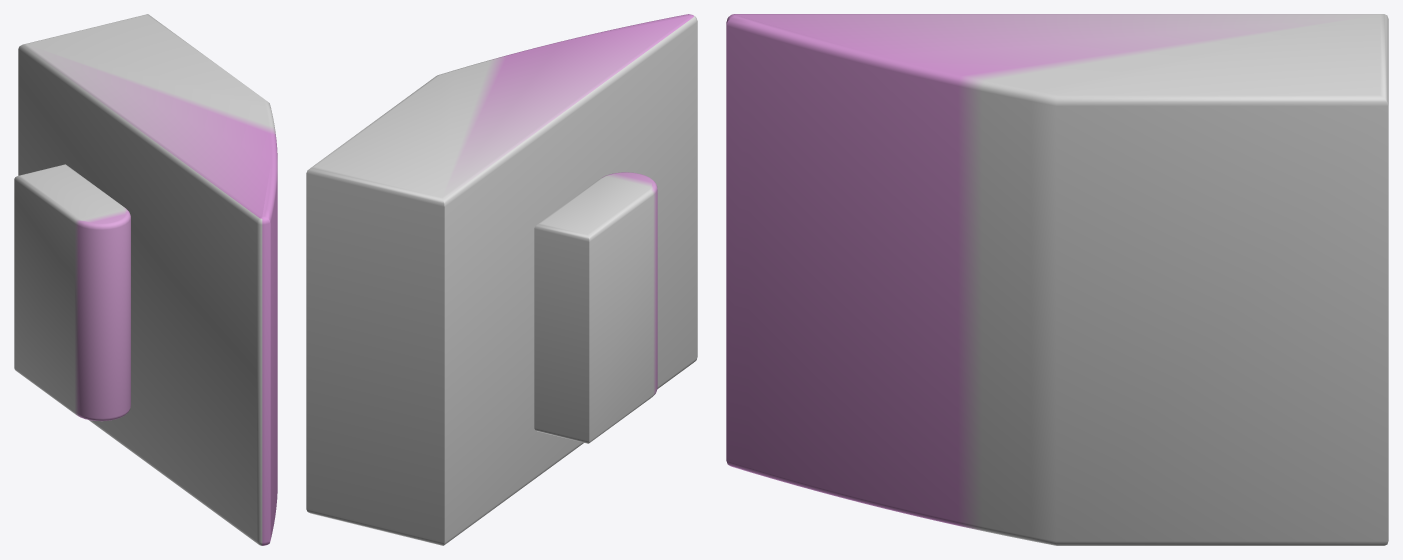
File: Kit_Lock_Latchbolt_Mortise.fbx
The picture shows the model from 3 angles, left to right: view 1: azimuth 30°, elevation 25°; view 2: azimuth 150°, elevation 25°; view 3: azimuth 270°, elevation 25°; orthographic projection. The views are drawn at different scales.
Visible parts, largest first — view 1: Kit_Lock_Latchbolt_Mortise_LOD0; view 2: Kit_Lock_Latchbolt_Mortise_LOD0; view 3: Kit_Lock_Latchbolt_Mortise_LOD0.
Boxes of the visible parts, x1=… form: Kit_Lock_Latchbolt_Mortise_LOD0: x1=14, y1=14, x2=277, y2=545; Kit_Lock_Latchbolt_Mortise_LOD0: x1=306, y1=14, x2=697, y2=545; Kit_Lock_Latchbolt_Mortise_LOD0: x1=726, y1=14, x2=1388, y2=545.
Size of what is drawn, in the model's own units: 0.0193 by 0.03 by 0.04.
